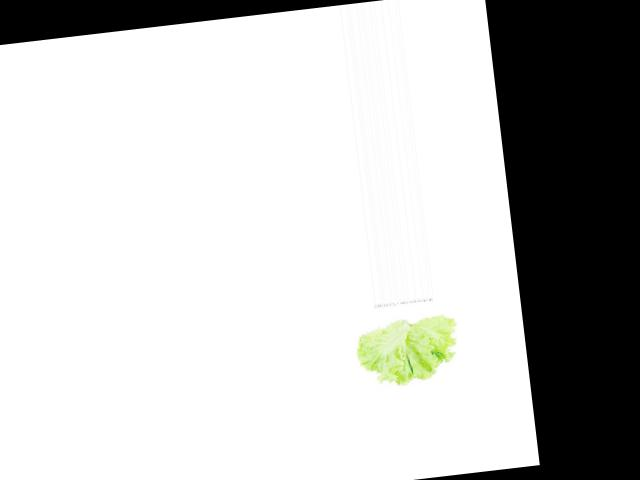lettuce: (349, 300, 463, 391)
